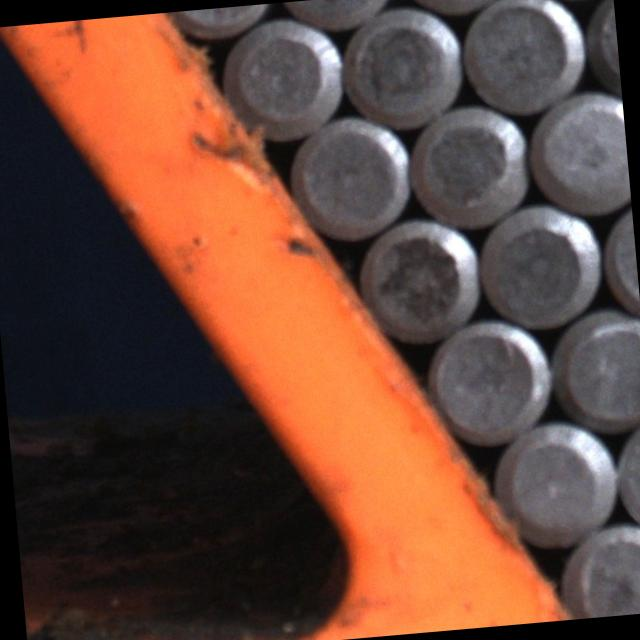tool: (422, 311, 556, 451), (488, 414, 623, 552), (472, 198, 606, 332), (404, 99, 536, 233), (218, 11, 350, 145), (356, 212, 484, 347), (287, 109, 416, 242), (338, 0, 466, 133), (453, 0, 589, 118), (524, 86, 632, 218), (548, 305, 640, 435), (561, 519, 640, 619)
